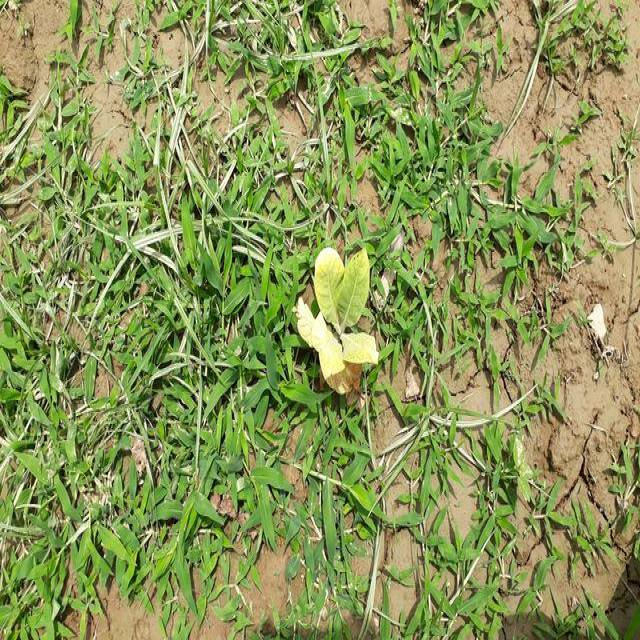crop: (296, 259, 386, 397)
